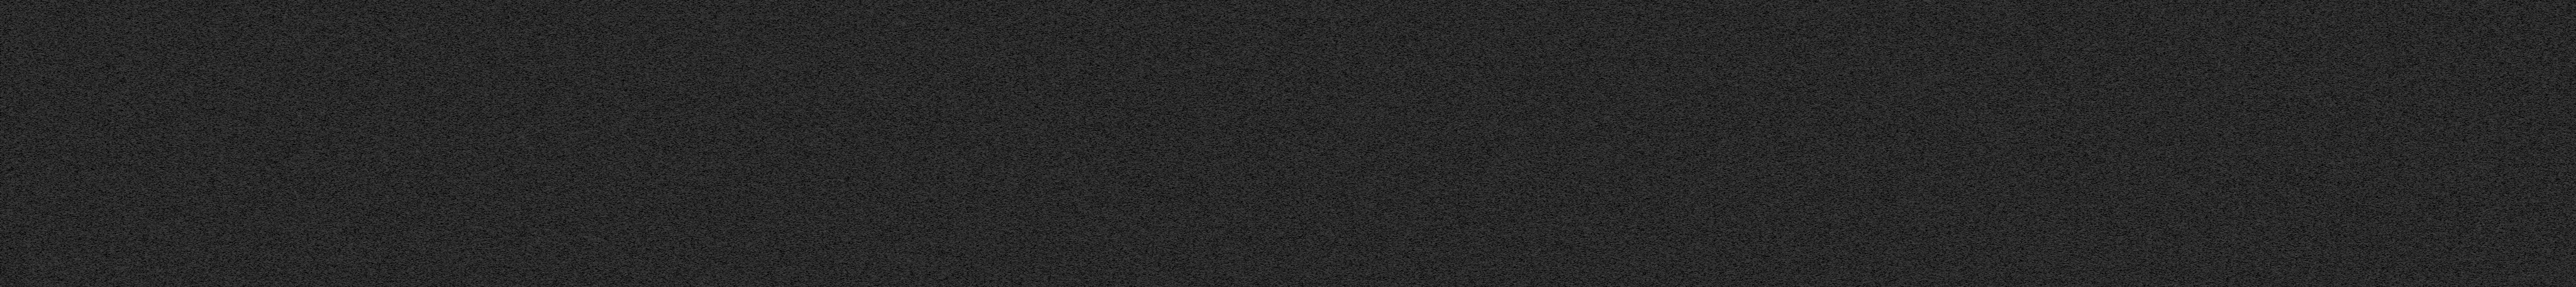wv_am: (641, 0, 646, 287), (333, 0, 337, 287)
wv_cw: (729, 0, 733, 287), (371, 0, 375, 287)
wv_usb: (721, 189, 724, 231), (721, 36, 724, 67), (721, 246, 724, 266), (721, 269, 724, 287), (721, 67, 724, 85), (721, 3, 724, 21), (721, 128, 724, 143), (1603, 228, 1607, 243), (721, 100, 724, 113), (1603, 156, 1607, 169), (721, 143, 724, 156), (721, 87, 724, 98), (1603, 130, 1607, 141), (1603, 34, 1607, 46), (721, 169, 724, 180), (721, 157, 724, 169), (1603, 274, 1607, 284), (1603, 251, 1607, 261), (721, 21, 724, 30), (721, 231, 724, 239), (721, 120, 724, 126), (721, 30, 724, 36), (1603, 141, 1607, 148), (721, 113, 724, 118), (1603, 261, 1607, 266), (1603, 244, 1607, 249), (721, 241, 724, 244), (1603, 284, 1607, 287), (721, 185, 724, 189), (721, 182, 724, 185), (1603, 267, 1605, 272), (1603, 225, 1607, 226), (1603, 151, 1605, 154), (1603, 149, 1605, 151), (1603, 48, 1605, 49)
